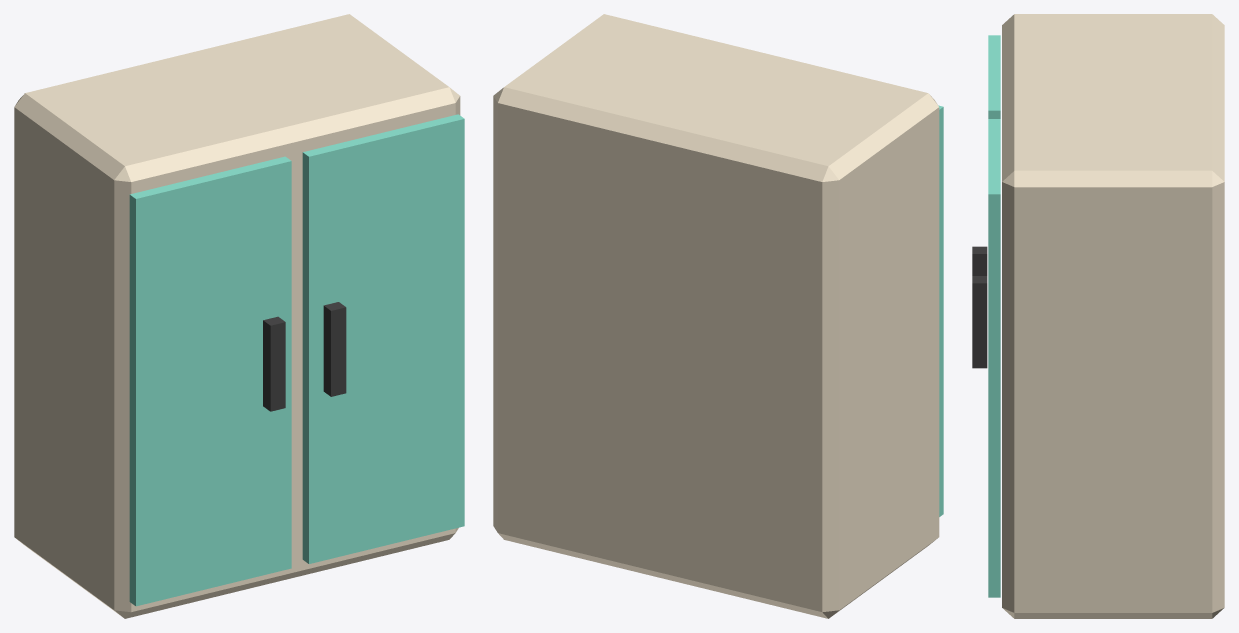
3 views of the same model, side by side, from view 1: azimuth 30°, elevation 25°; view 2: azimuth 150°, elevation 25°; view 3: azimuth 270°, elevation 25° (orthographic).
Visible parts, largest first — view 1: Equipment case, Door, Door.001, Handle.001, Handle; view 2: Equipment case, Door; view 3: Equipment case, Door.001, Handle.001, Door, Handle.
Boxes of the visible parts, box(x1,y1,x2,y2) form: Equipment case: box(14, 14, 460, 618); Door: box(129, 156, 291, 606); Door.001: box(302, 114, 464, 563); Handle.001: box(323, 302, 346, 396); Handle: box(263, 316, 285, 411); Equipment case: box(493, 14, 939, 618); Door: box(938, 105, 943, 516); Equipment case: box(1002, 14, 1224, 618); Door.001: box(988, 119, 1000, 597); Handle.001: box(972, 276, 987, 368); Door: box(988, 35, 1000, 118); Handle: box(972, 246, 987, 275).
Bounding box in the file's own units: 80 × 100 × 51.
